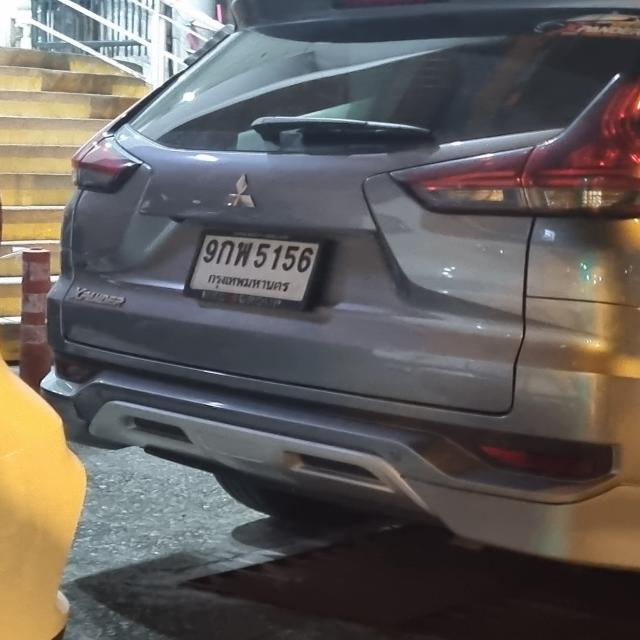license_plate: (189, 228, 334, 309)
